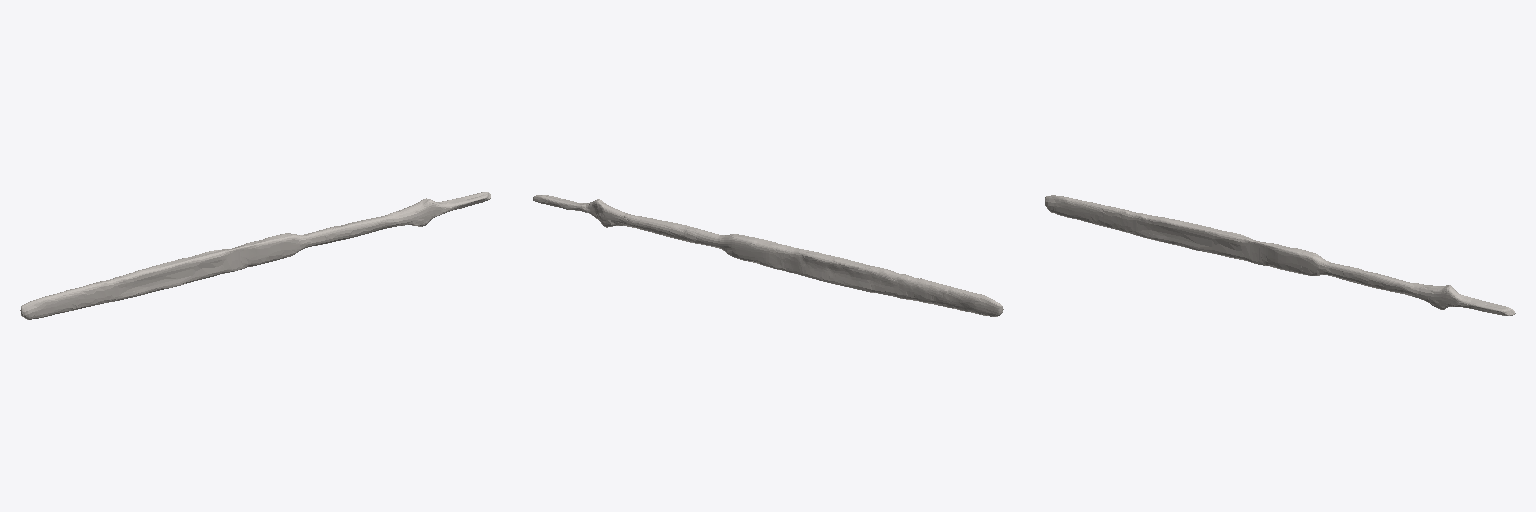
URDF robot description (Tooling_5):
<?xml version="1.0" encoding="utf-8"?>
<!-- This URDF was automatically created by SolidWorks to URDF Exporter! Originally created by Stephen Brawner (brawner@gmail.com)
     Commit Version: 1.6.0-4-g7f85cfe  Build Version: 1.6.7995.38578
     For more information, please see http://wiki.ros.org/sw_urdf_exporter -->
<robot
  name="Tooling_5">
  <link
    name="base_link">
    <inertial>
      <origin
        xyz="-0.00029985 -0.00039583 6.6346E-05"
        rpy="0 0 0" />
      <mass
        value="0.022774" />
      <inertia
        ixx="9.8318E-08"
        ixy="-7.8309E-08"
        ixz="2.1331E-07"
        iyy="3.7019E-05"
        iyz="-2.0961E-09"
        izz="3.7074E-05" />
    </inertial>
    <visual>
      <origin
        xyz="0 0 0"
        rpy="0 0 0" />
      <geometry>
        <mesh
          filename="../meshes/base_link.STL" />
      </geometry>
      <material
        name="">
        <color
          rgba="0.77647 0.75686 0.73725 1" />
      </material>
    </visual>
    <collision>
      <origin
        xyz="0 0 0"
        rpy="0 0 0" />
      <geometry>
        <mesh
          filename="../meshes/base_link.STL" />
      </geometry>
    </collision>
  </link>
</robot>

--- What the picture shows (computed from the rendered views, not written in the file) ---
The picture shows the robot from 3 angles, left to right: view 1: azimuth 30°, elevation 25°; view 2: azimuth 150°, elevation 25°; view 3: azimuth 330°, elevation 25°; orthographic projection.
Robot: Tooling_5 — 1 links, 0 joints (none); root link base_link; default pose: all joints at 0.
Visible links, largest first — view 1: base_link; view 2: base_link; view 3: base_link.
Boxes of the visible links, <box> form: base_link: <box>20,192,490,319</box>; base_link: <box>533,195,1003,316</box>; base_link: <box>1045,195,1515,315</box>.
Bounding box of the posed robot: 0.1606 × 0.0046 × 0.0082 m (x, y, z).
1 mesh visuals loaded from 1 distinct referenced files (1 binary STL).
